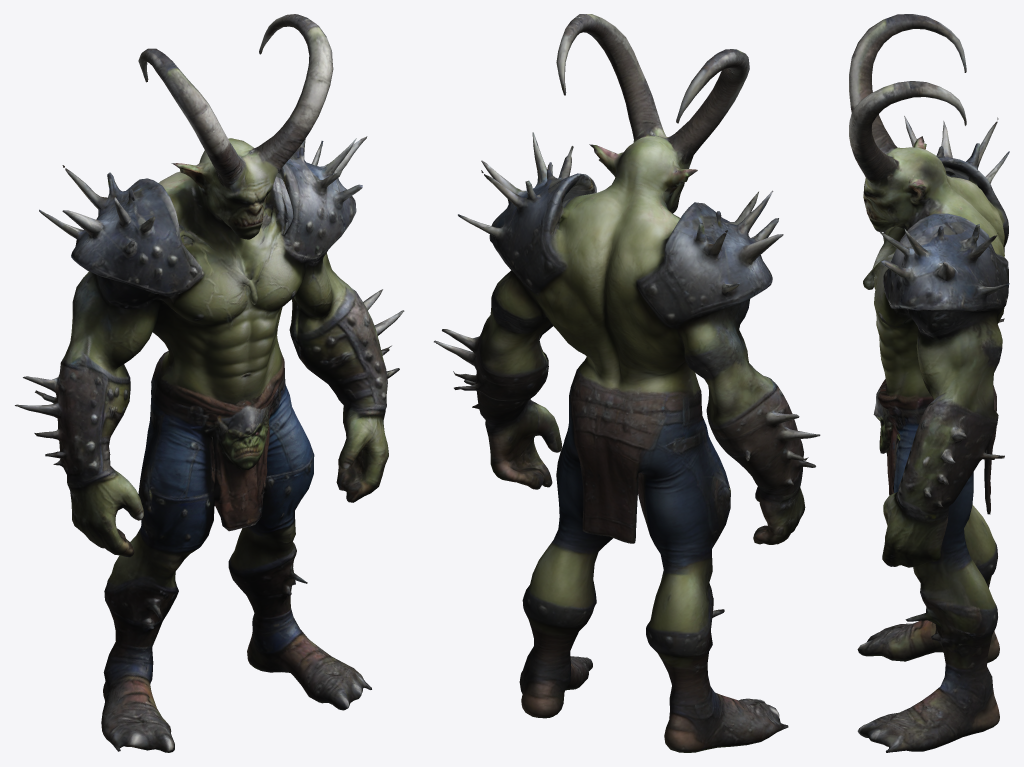
The model's file is monster_orc.glb.
3 views of the same model, side by side, from view 1: azimuth 30°, elevation 25°; view 2: azimuth 150°, elevation 25°; view 3: azimuth 270°, elevation 25° (orthographic). The views are drawn at different scales.
Parts seen in each view (by area): view 1: Mesh1_Mesh1.105; view 2: Mesh1_Mesh1.105; view 3: Mesh1_Mesh1.105.
Boxes of the visible parts, x1,y1,x2,y2 form: Mesh1_Mesh1.105: (15, 14, 404, 752); Mesh1_Mesh1.105: (434, 14, 820, 752); Mesh1_Mesh1.105: (849, 14, 1009, 752).
Bounding box in the file's own units: 1.19 × 2 × 0.4473.
1 material, 1 textured.
